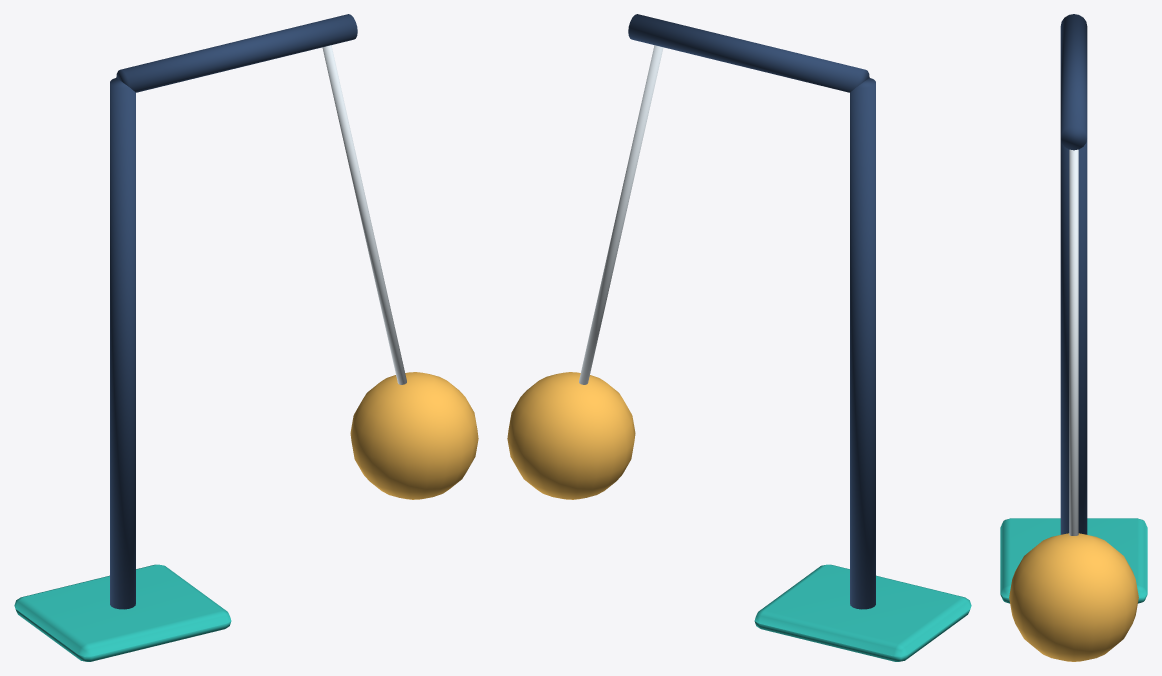
The model's file is pendulum-lite.glb.
3 renders of one model, left to right at view 1: azimuth 30°, elevation 25°; view 2: azimuth 150°, elevation 25°; view 3: azimuth 270°, elevation 25°, orthographic.
Visible parts, largest first — view 1: Frame; view 2: Frame; view 3: Frame.
Part boxes in pixels (box(x1,y1,x2,y2)): Frame: box(14, 14, 478, 661); Frame: box(507, 14, 971, 661); Frame: box(1000, 14, 1147, 661).
Bounding box in the file's own units: 1.67 × 2.08 × 0.5.
